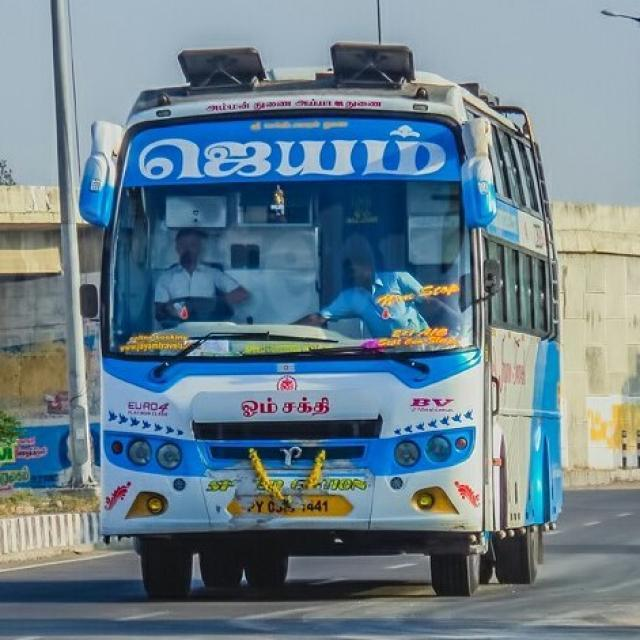Bus: (76, 44, 569, 612)
